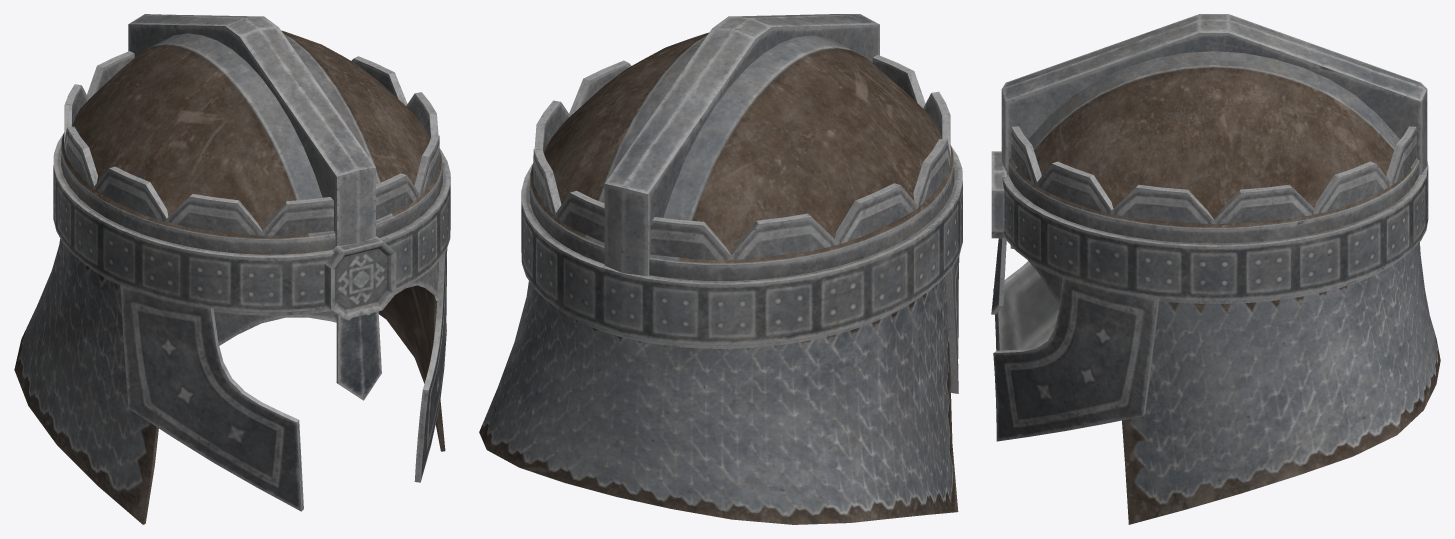
File: sk_dwarf_erebor_helmet_leather_heavy_d.fbx
3 views of the same model, side by side, from view 1: azimuth 30°, elevation 25°; view 2: azimuth 150°, elevation 25°; view 3: azimuth 270°, elevation 25° (orthographic). The views are drawn at different scales.
Visible parts, largest first — view 1: sk_dwarf_erebor_helmet_leather_heavy_d; view 2: sk_dwarf_erebor_helmet_leather_heavy_d; view 3: sk_dwarf_erebor_helmet_leather_heavy_d.
Boxes of the visible parts, left/top/right/bottom form: sk_dwarf_erebor_helmet_leather_heavy_d: left=14, top=14, right=450, bottom=524; sk_dwarf_erebor_helmet_leather_heavy_d: left=479, top=14, right=962, bottom=524; sk_dwarf_erebor_helmet_leather_heavy_d: left=991, top=14, right=1440, bottom=524.
Bounding box in the file's own units: 0.2777 × 0.2997 × 0.3178.
